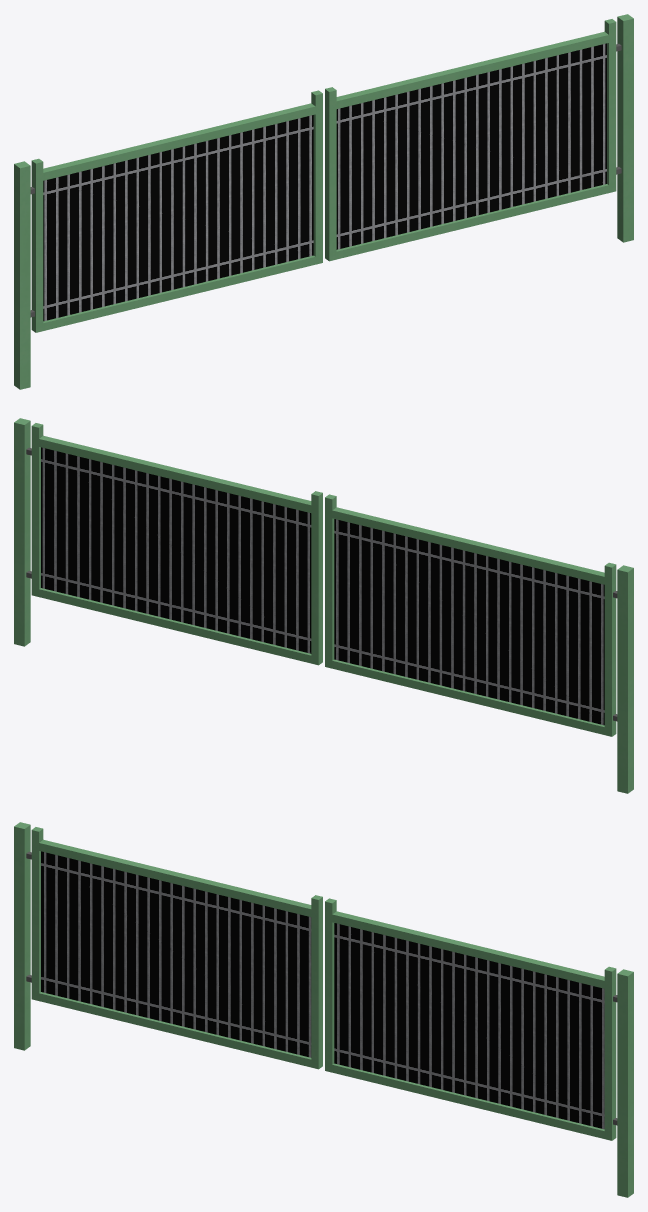
Rendered from fence-mesh-gateX2-2m-cbj_LOD00.gltf.
3 views of the same model, one above another, from view 1: azimuth 30°, elevation 25°; view 2: azimuth 150°, elevation 25°; view 3: azimuth 330°, elevation 25° (orthographic).
Visible parts, largest first — view 1: post; view 2: post; view 3: post.
Part boxes in pixels (x1,y1,x2,y2): post: (14,14,633,389); post: (14,418,633,793); post: (14,822,633,1197).
Size of the model in its own units: 4.06 by 1.4 by 0.07.
